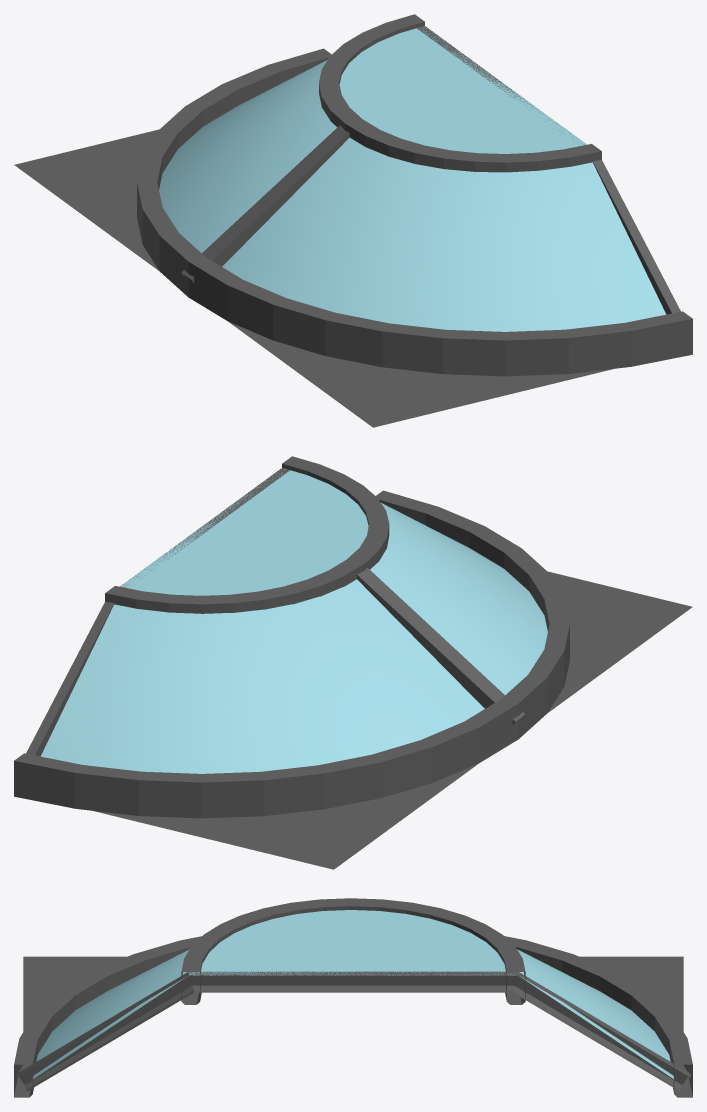
Rendered from SM_GlassCeilingCorner.fbx.
3 renders of one model, top to bottom at view 1: azimuth 30°, elevation 25°; view 2: azimuth 150°, elevation 25°; view 3: azimuth 270°, elevation 25°, orthographic. The views are drawn at different scales.
Parts seen in each view (by area): view 1: SM_GlassCeilingCorner; view 2: SM_GlassCeilingCorner; view 3: SM_GlassCeilingCorner.
Boxes of the visible parts, x1=… form: SM_GlassCeilingCorner: x1=14, y1=14, x2=692, y2=427; SM_GlassCeilingCorner: x1=14, y1=456, x2=692, y2=869; SM_GlassCeilingCorner: x1=14, y1=898, x2=692, y2=1097.
Size of the model in its own units: 207 by 84.06 by 411.
